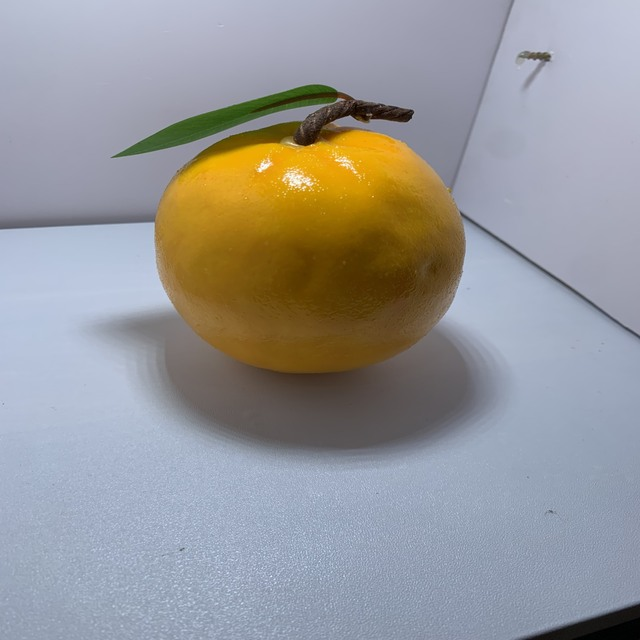Cam vang: (148, 80, 479, 383)
